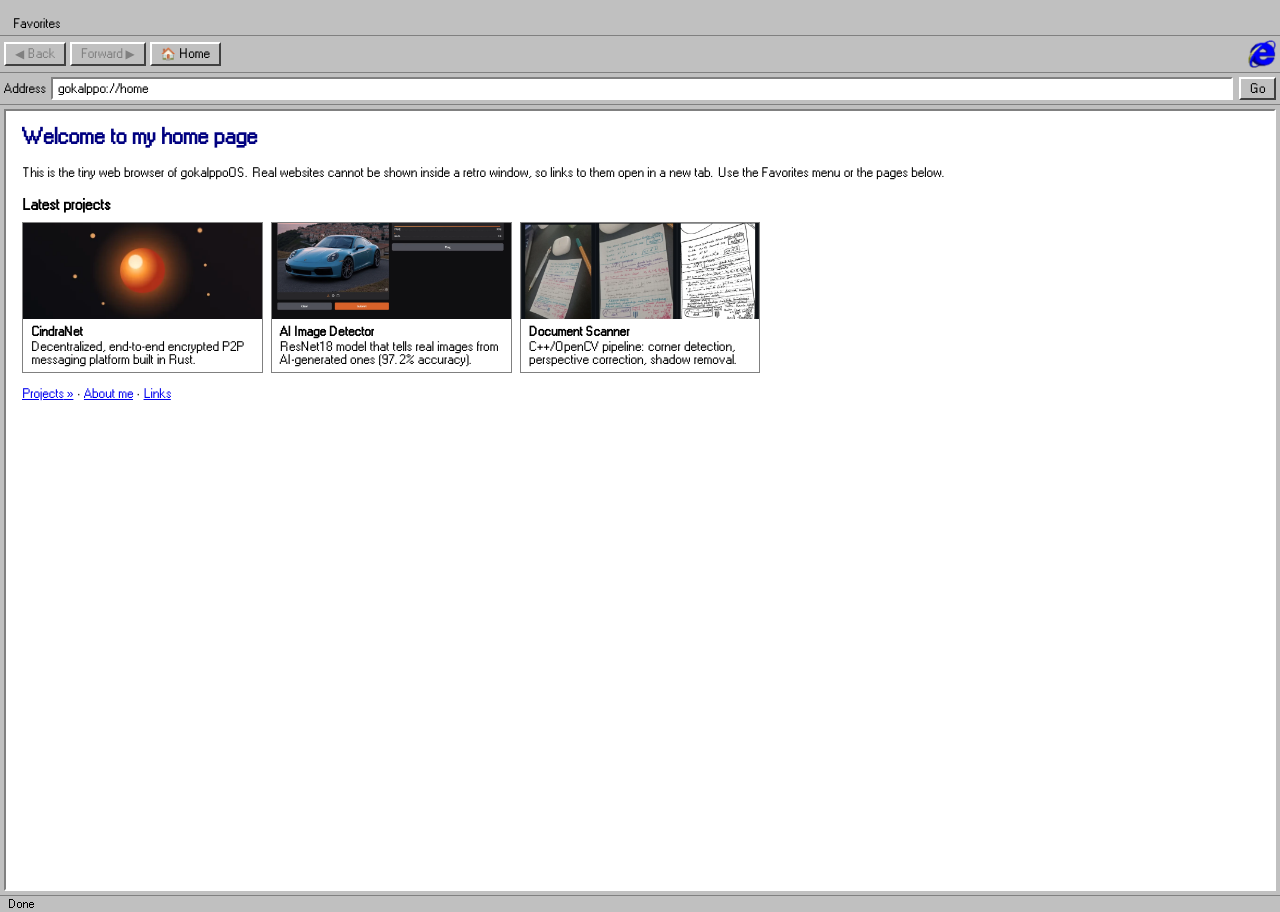
Scenario: Internet Explorer › opens a project from its card and links back to the list
Replace the text in the field with id "ie-address-input" with "projects" at (642, 88), box [51, 77, 1233, 100]
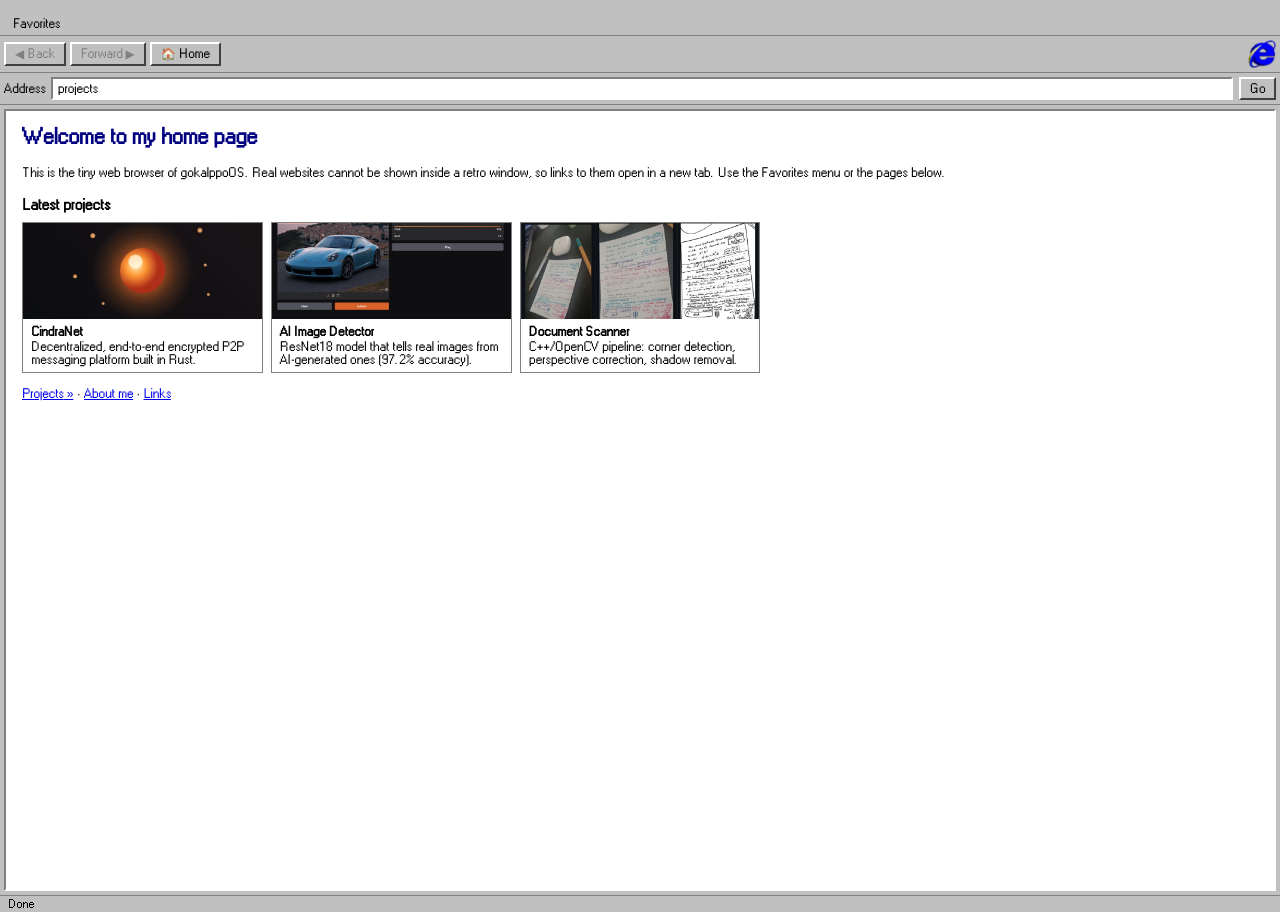
Submit the form with id "ie-address-input", box [0, 73, 1279, 105]
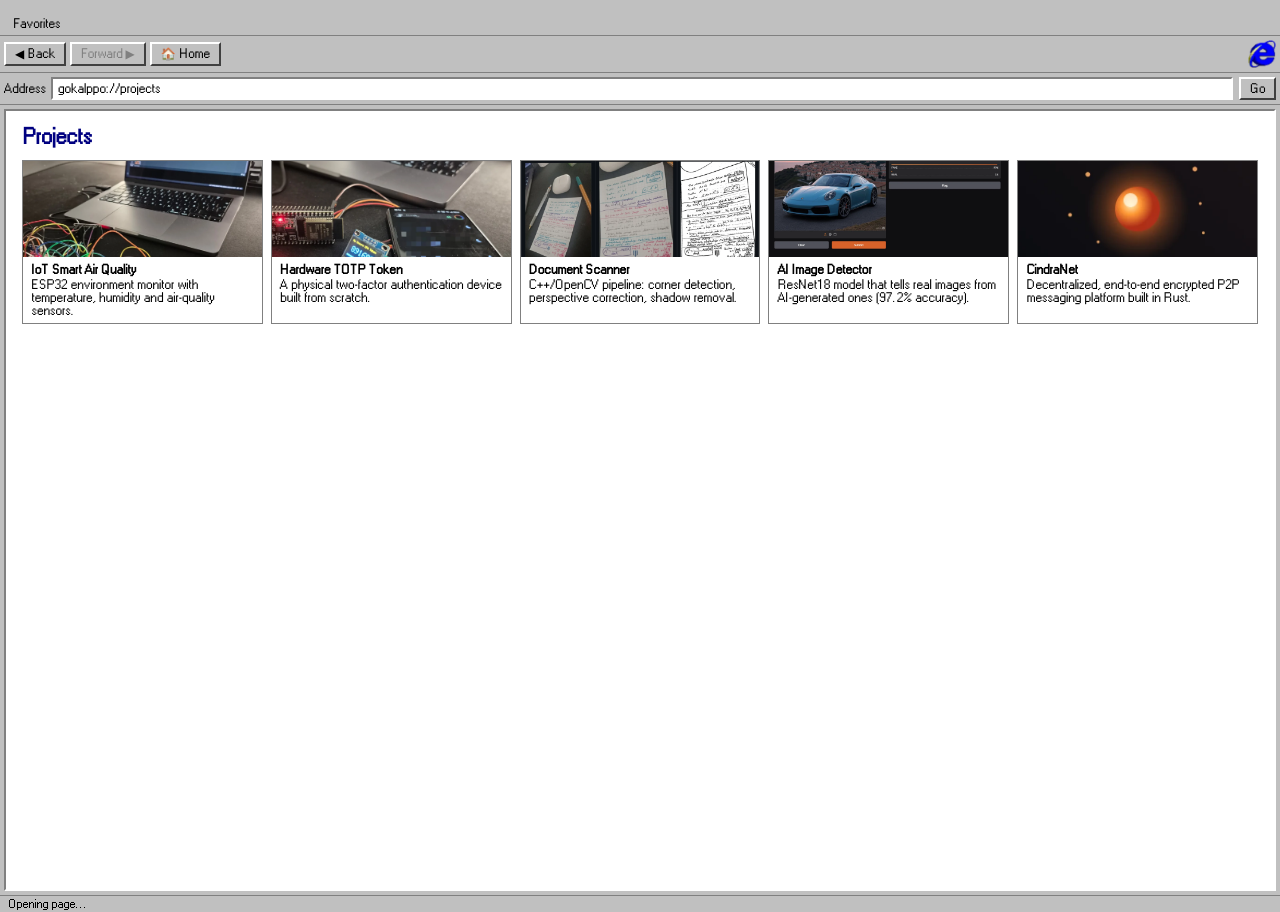
Click the button "Document Scanner" at (640, 242), box [520, 160, 760, 324]
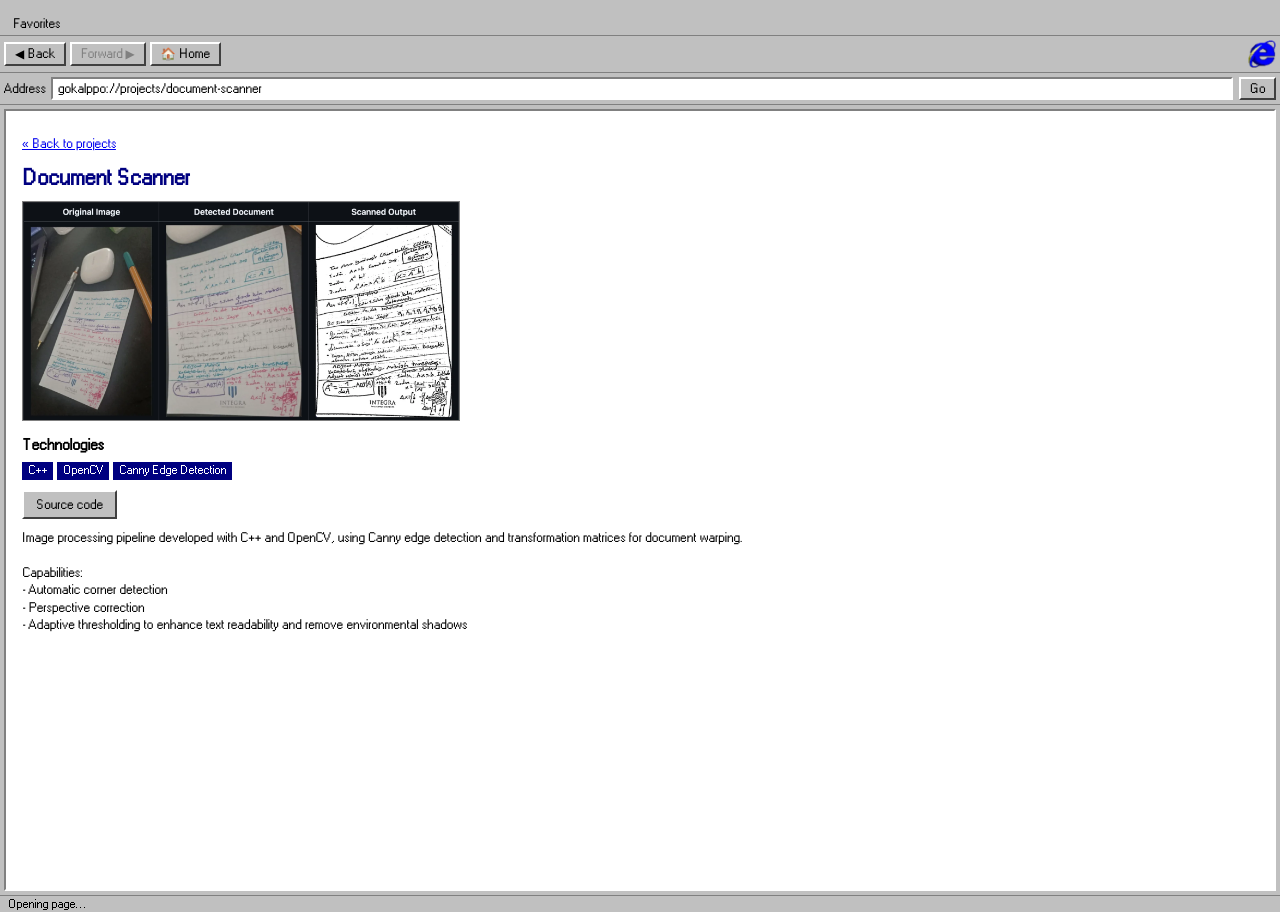
Expected: the heading "Document Scanner" is shown, [22, 167, 189, 189]
Expected: the text "OpenCV" is shown, [57, 462, 109, 480]
Click the link "« Back to projects" at (69, 144), box [22, 137, 116, 150]
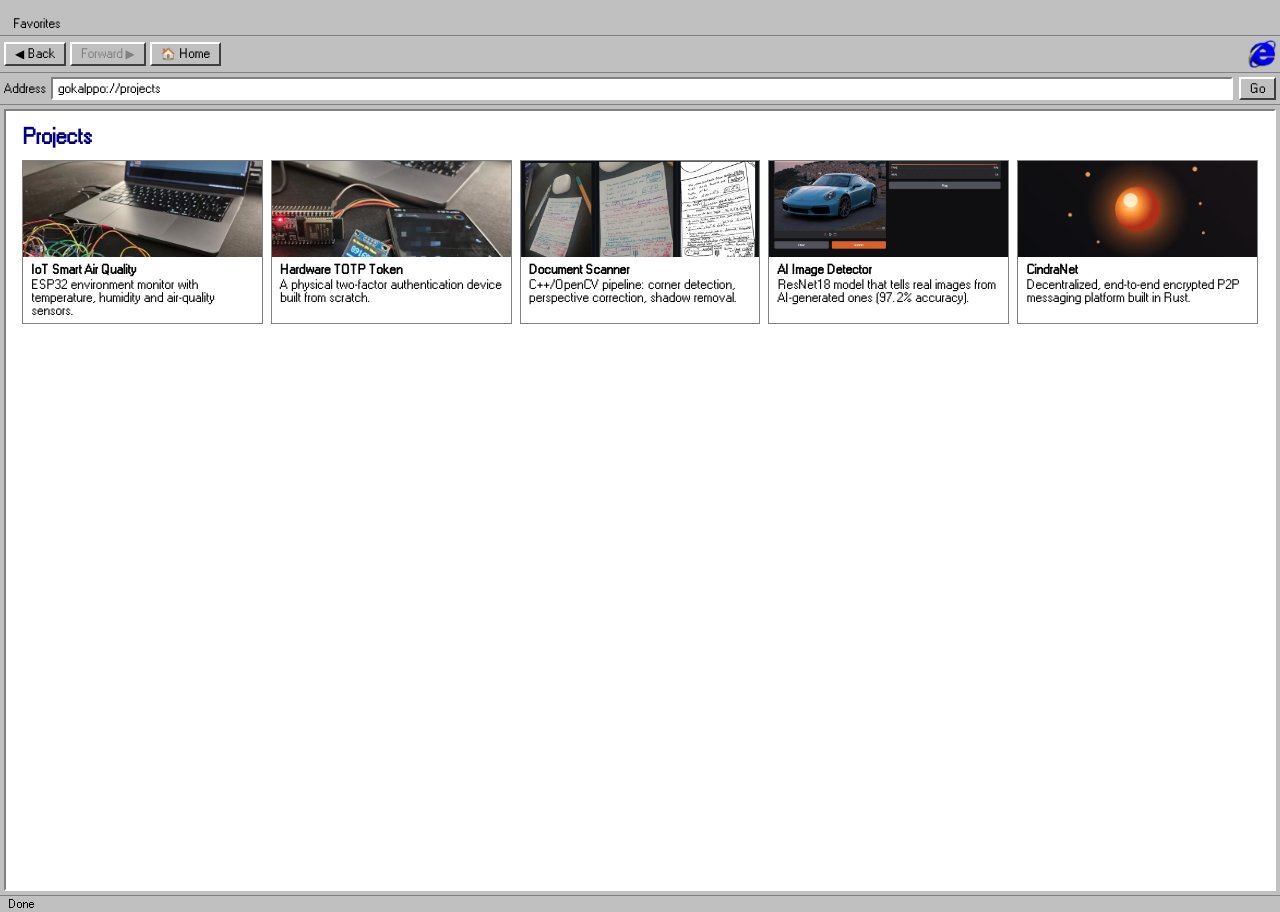
Expected: the field with id "ie-address-input" holds "gokalppo://projects", [51, 77, 1233, 100]
